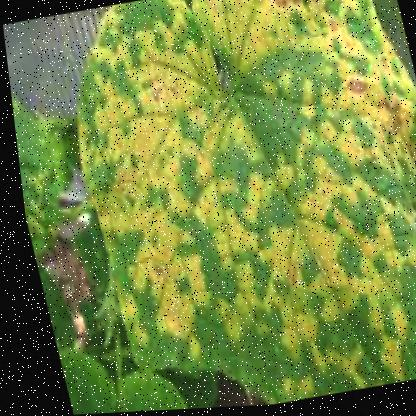DownyMildew: (71, 0, 415, 413)
